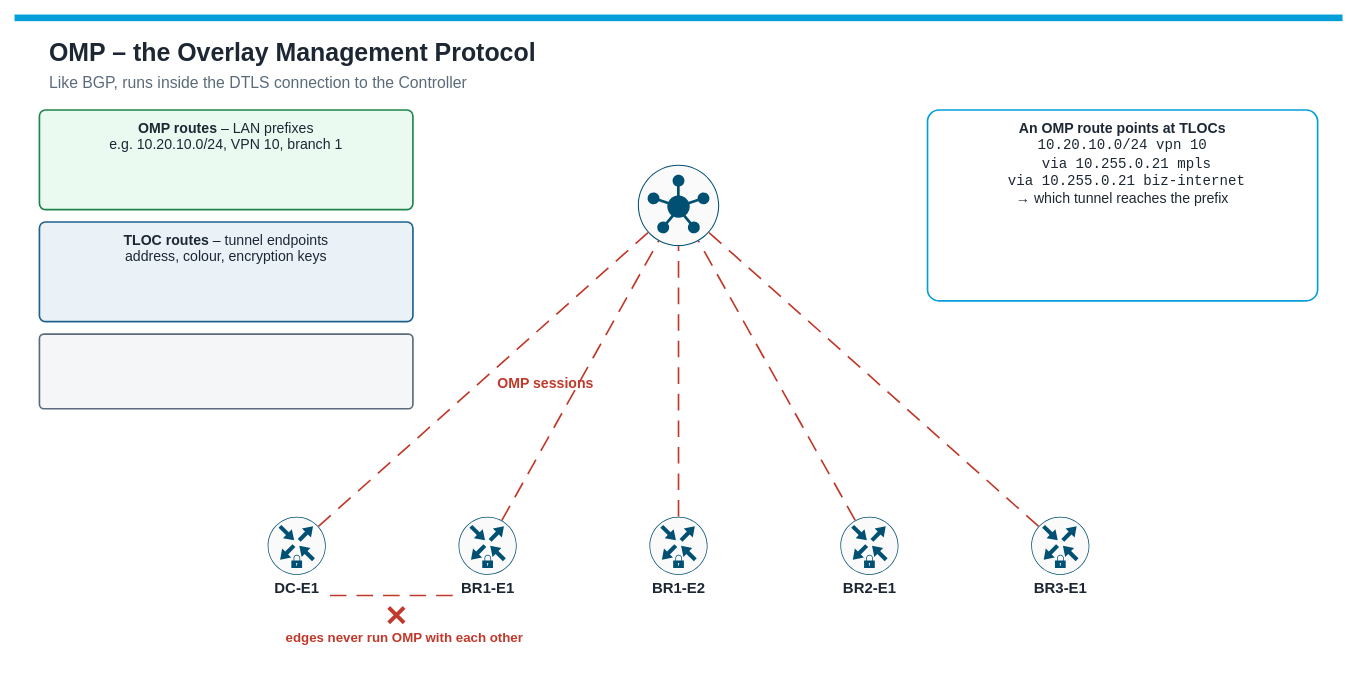
Image size: 1356x684. Some labels were removed from this diagram. Each missing label, with the box of its shape:
Controller (route reflector): (637, 164, 719, 246)
Service routes – e.g. firewalls (not used here): (38, 333, 413, 409)
